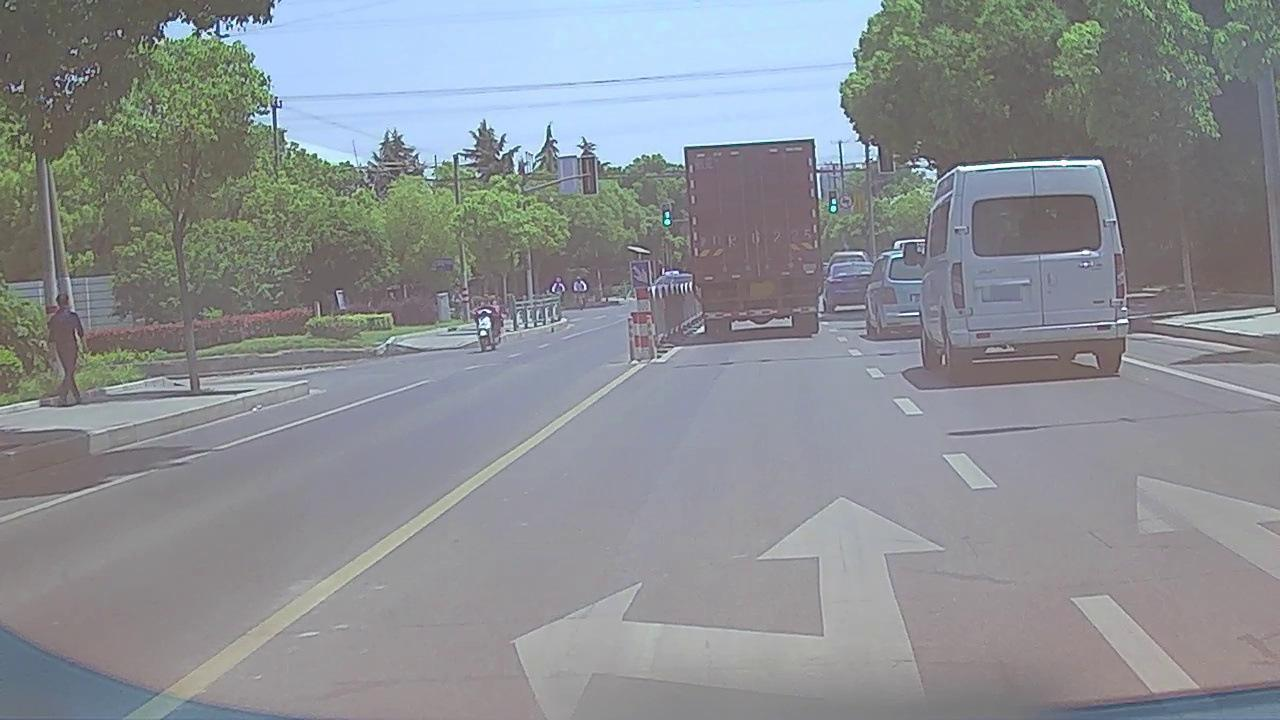traffic_light: (662, 205, 671, 227), (829, 191, 837, 213)
